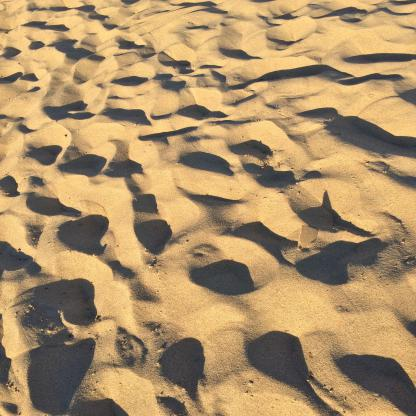karton: (298, 225, 318, 250)
